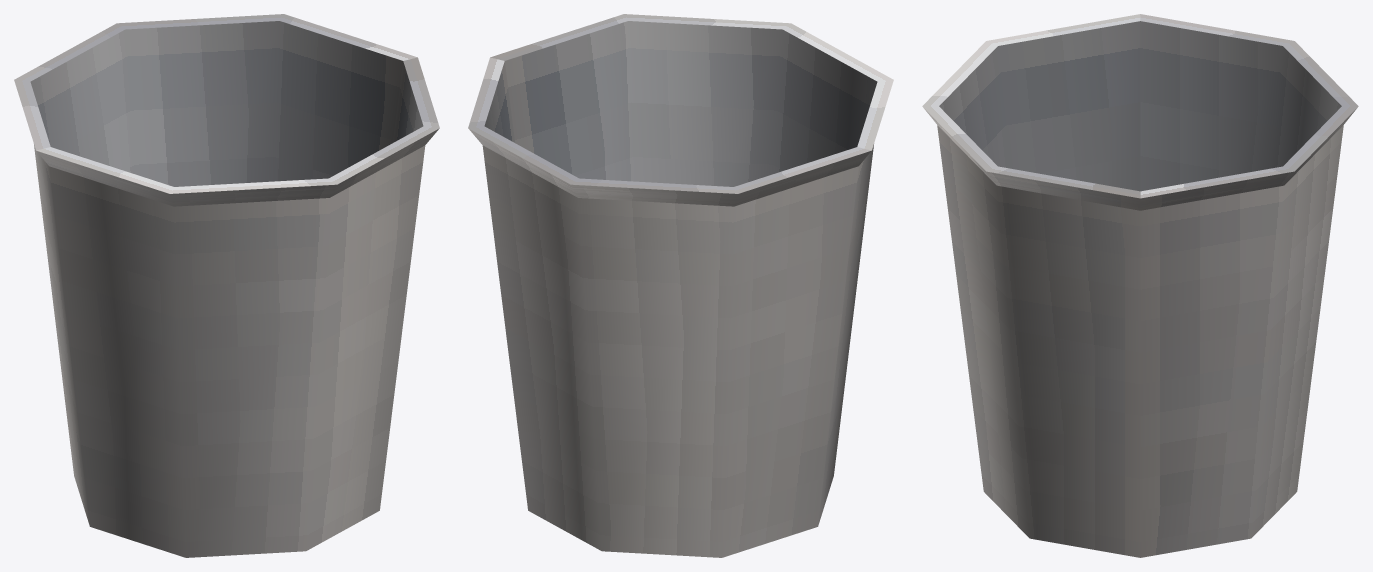
Rendered from wine-bucket.obj.
The picture shows the model from 3 angles, left to right: view 1: azimuth 30°, elevation 25°; view 2: azimuth 150°, elevation 25°; view 3: azimuth 270°, elevation 25°; orthographic projection.
Parts seen in each view (by area): view 1: wine-bucket; view 2: wine-bucket; view 3: wine-bucket.
Part boxes in pixels (x1,y1,x2,y2): wine-bucket: (14, 14, 439, 557); wine-bucket: (468, 14, 893, 557); wine-bucket: (922, 14, 1358, 557).
Bounding box in the file's own units: 0.234 × 0.228 × 0.234.
1 material, 1 textured.
